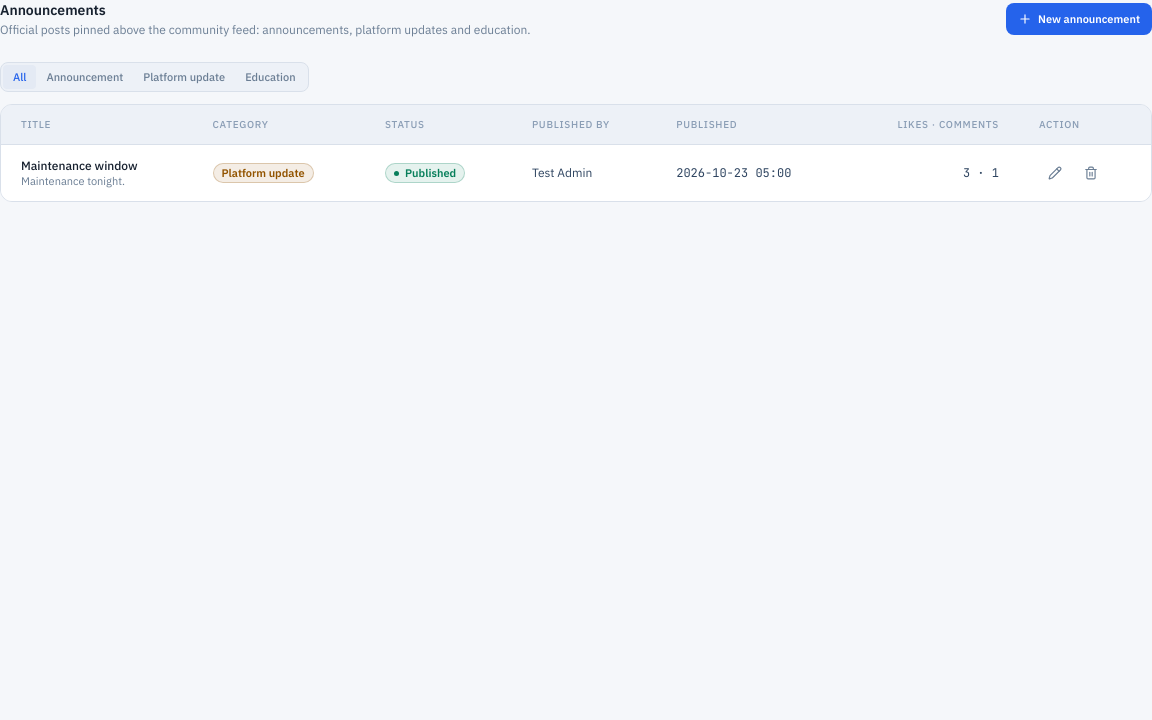
Scenario: announcement screens (UC-44) › lists announcements, filters a category and deletes after asking
Expected: the text "Maintenance window" is shown, [21,158,138,173]
Expected: the radio button "Platform update" is shown, [133,65,235,89]
Click the radio button labelled "Education". click: [270, 77]
box: [235,65,306,89]
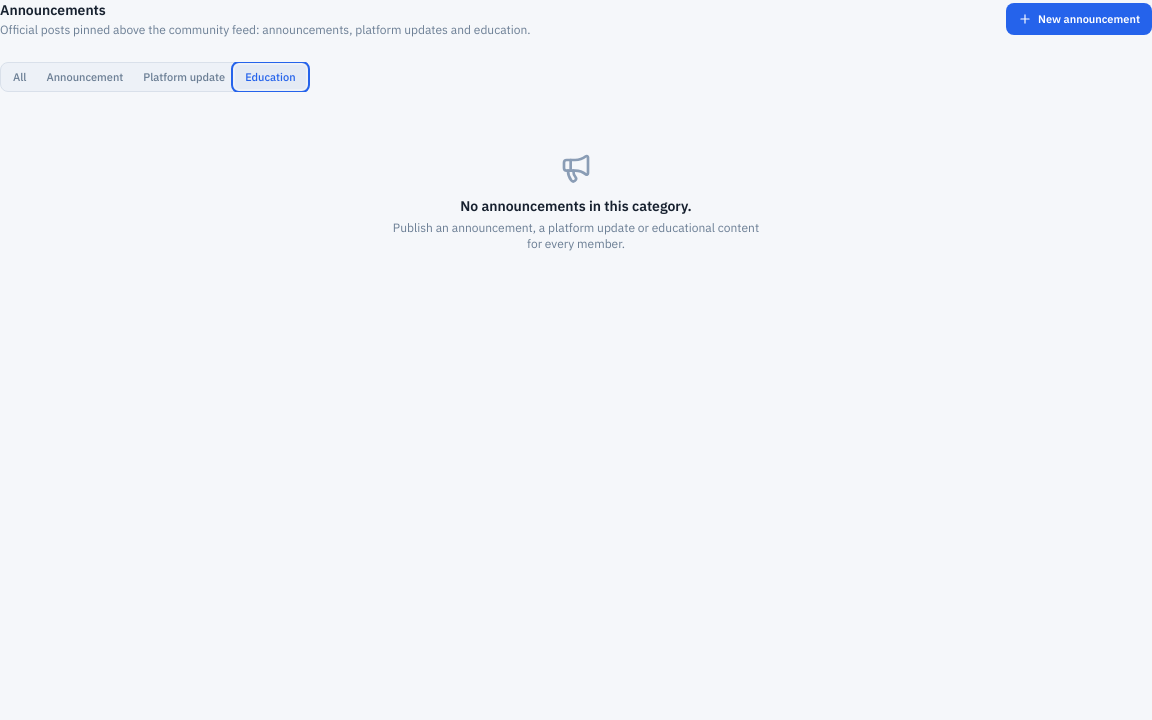
Expected: the heading "No announcements in this category." is shown, [460,196,692,216]
Click the radio button labelled "All". click: [20, 77]
box: [3,65,36,89]
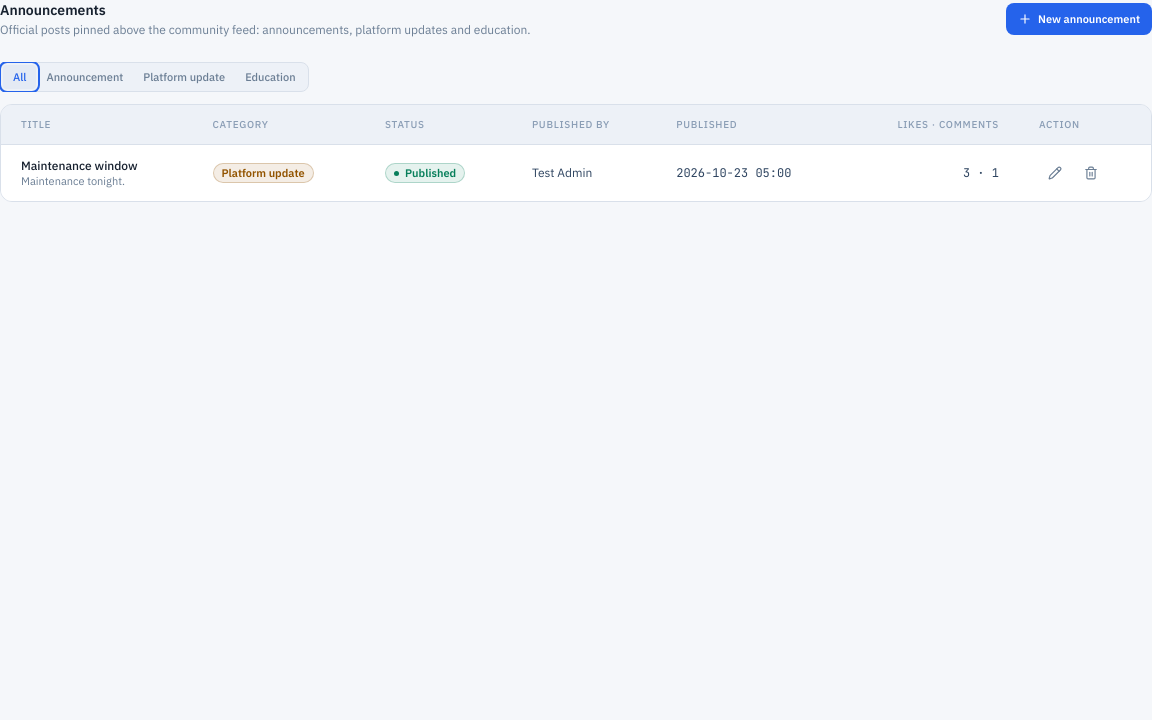
Click the button named "Delete \"Maintenance window\"". click: [1091, 173]
box: [1075,157,1107,189]
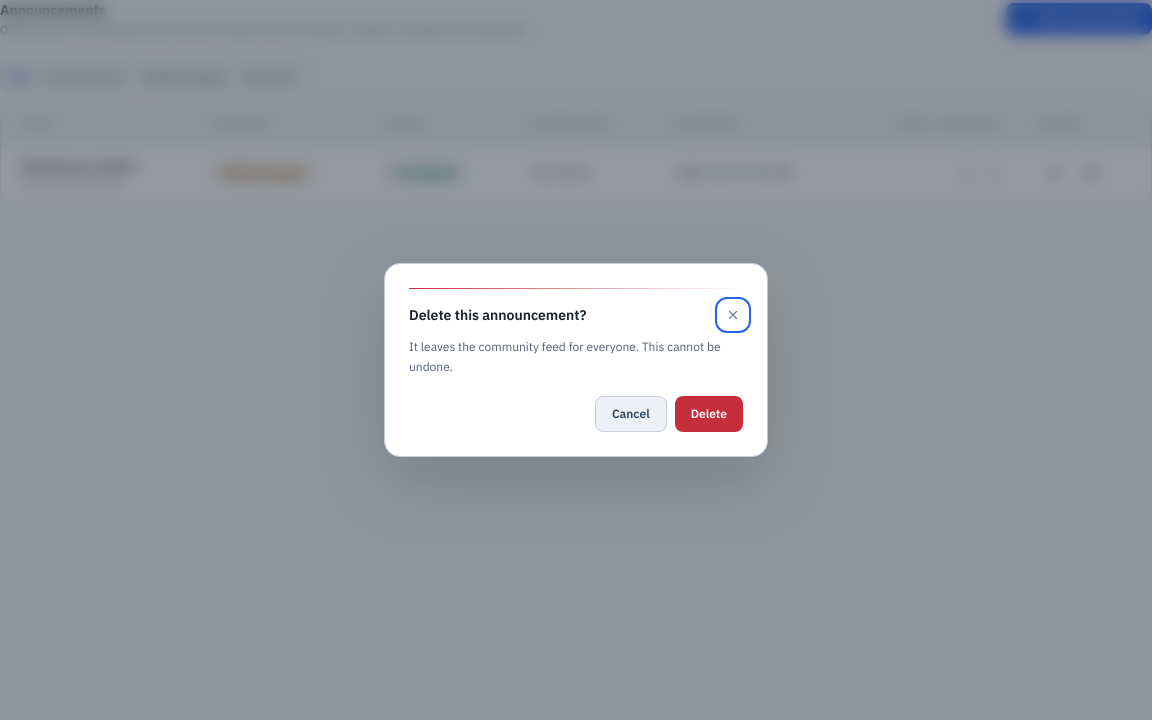
Click the button "Delete". click: [709, 414]
box: [675,396,743,432]
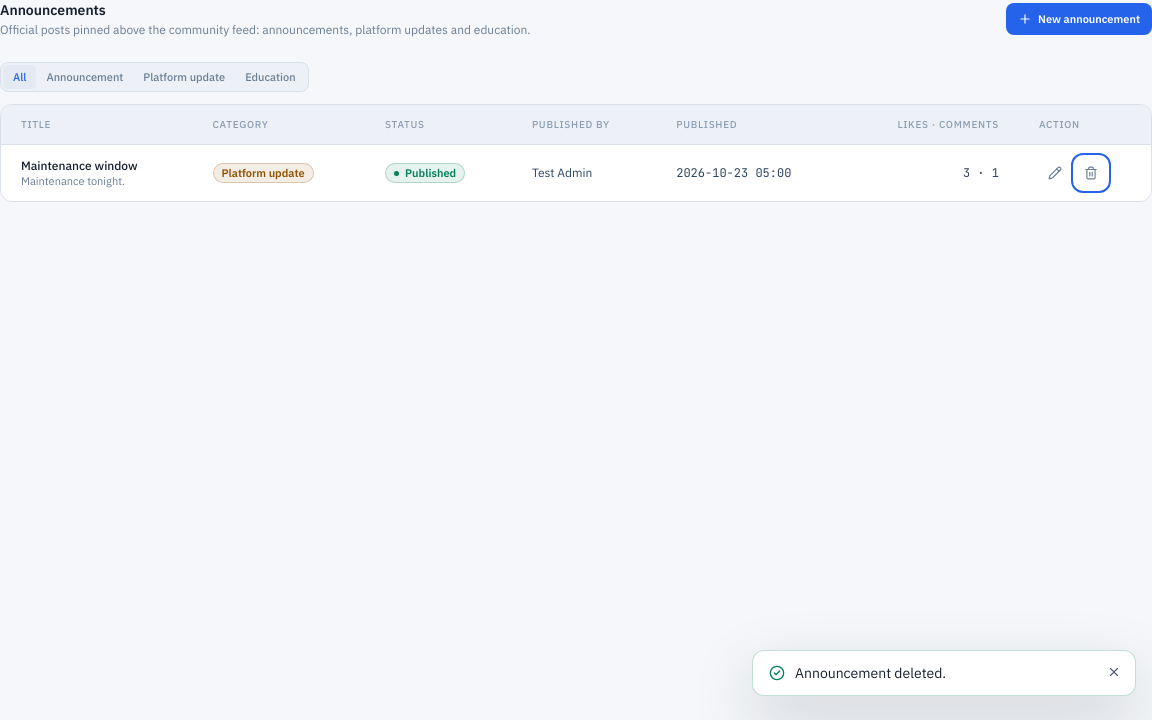
Expected: the text "Announcement deleted." is shown, [795,664,946,682]
